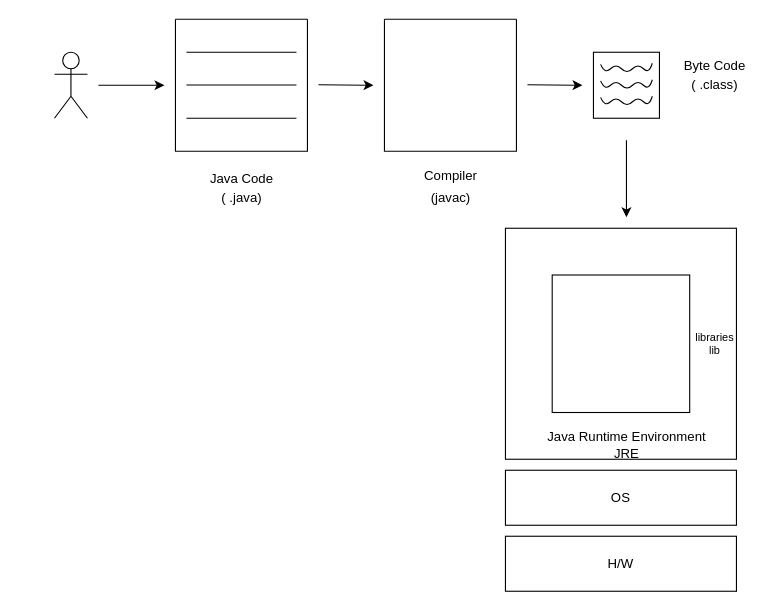
Image size: 778x611. Some labels were removed from this diagram. The shapes that lost their labels are listed below. From the top down, each one's centre as x and y in pixels, then its label:
At (70,84): "User/Programmer".
At (620,343): "Java Virtual Machine JVM".
